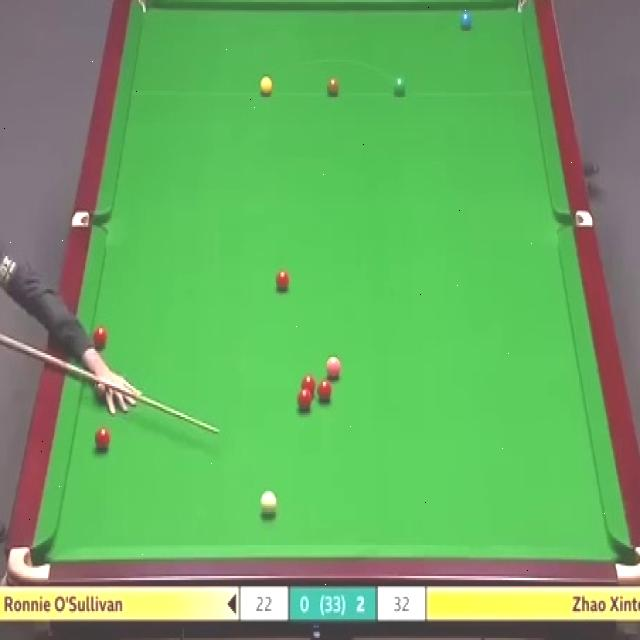blue-ball: (461, 11, 471, 33)
brown-ball: (326, 78, 340, 95)
green-ball: (392, 74, 407, 99)
pink-ball: (325, 354, 342, 379)
red-ball: (94, 424, 111, 452), (90, 325, 109, 350), (317, 379, 333, 403), (302, 374, 316, 398), (274, 270, 290, 290), (298, 388, 312, 410)
white-ball: (258, 488, 279, 521)
yellow-ball: (259, 75, 273, 97)
